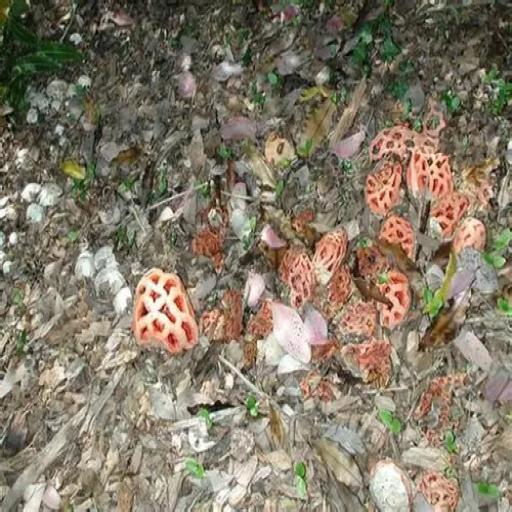Red Cage Fungus: (132, 267, 201, 358), (341, 336, 410, 393), (332, 286, 384, 345), (409, 149, 458, 207), (362, 158, 408, 219), (368, 120, 442, 157), (373, 267, 413, 334), (279, 247, 316, 317), (314, 216, 348, 280), (379, 212, 417, 264), (429, 195, 470, 233), (415, 467, 456, 503)
